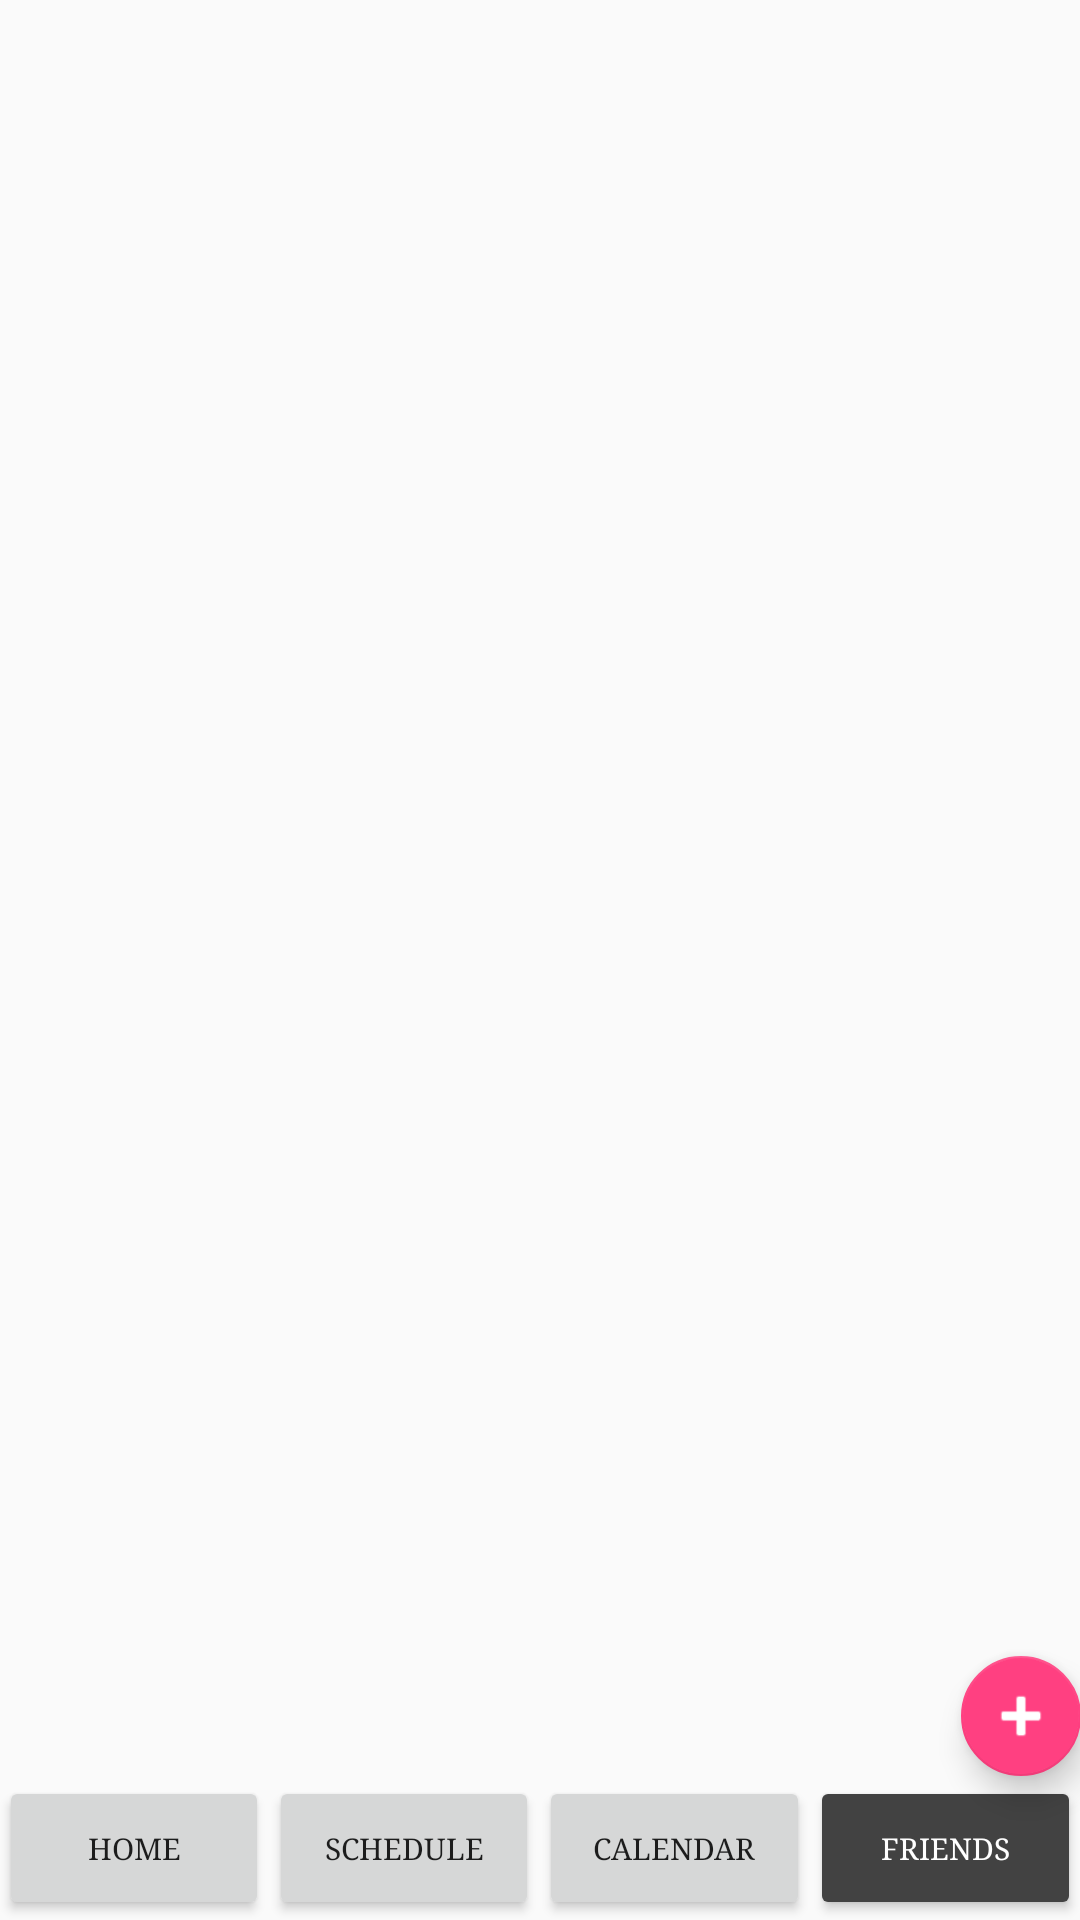

Screen size 1080*1920. Icon name, then its center in pixels as point (x, y):
add: point (1020, 1716)
